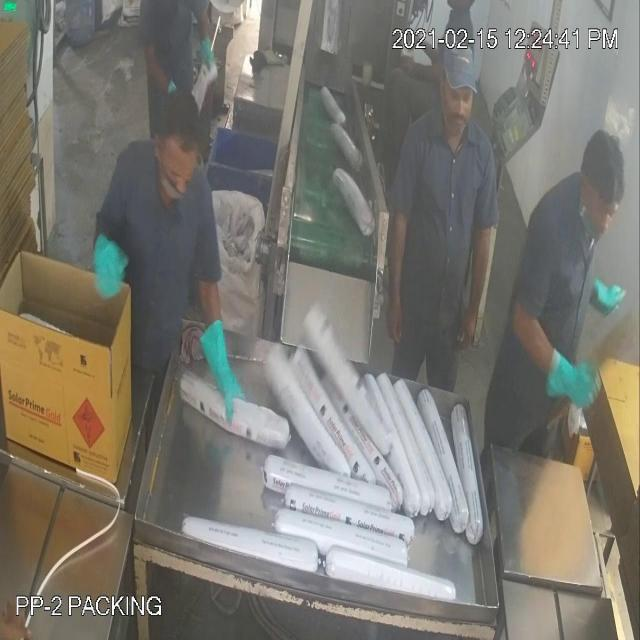Gloves: (36, 46, 571, 375)
